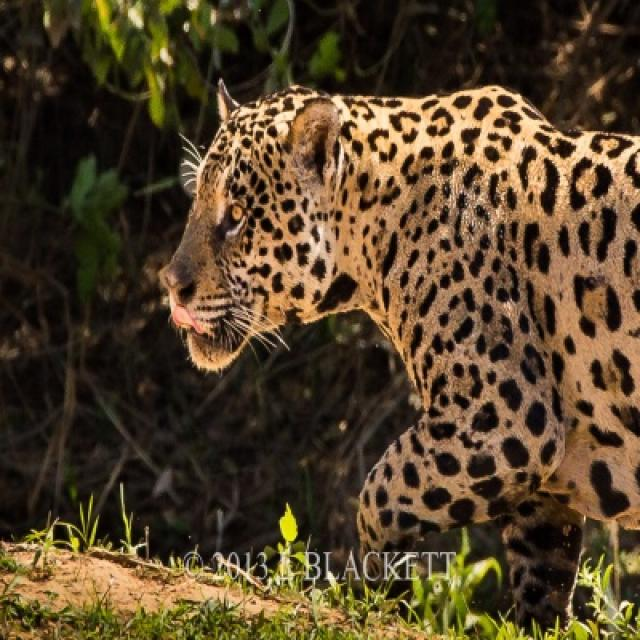Jaguar: (157, 80, 638, 637)
